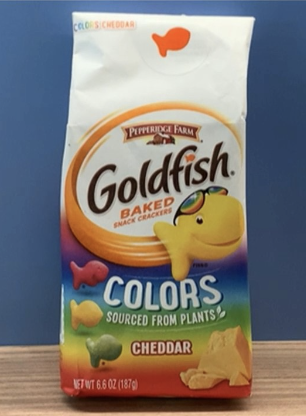crackers_100g-199g: (70, 107, 240, 394)
